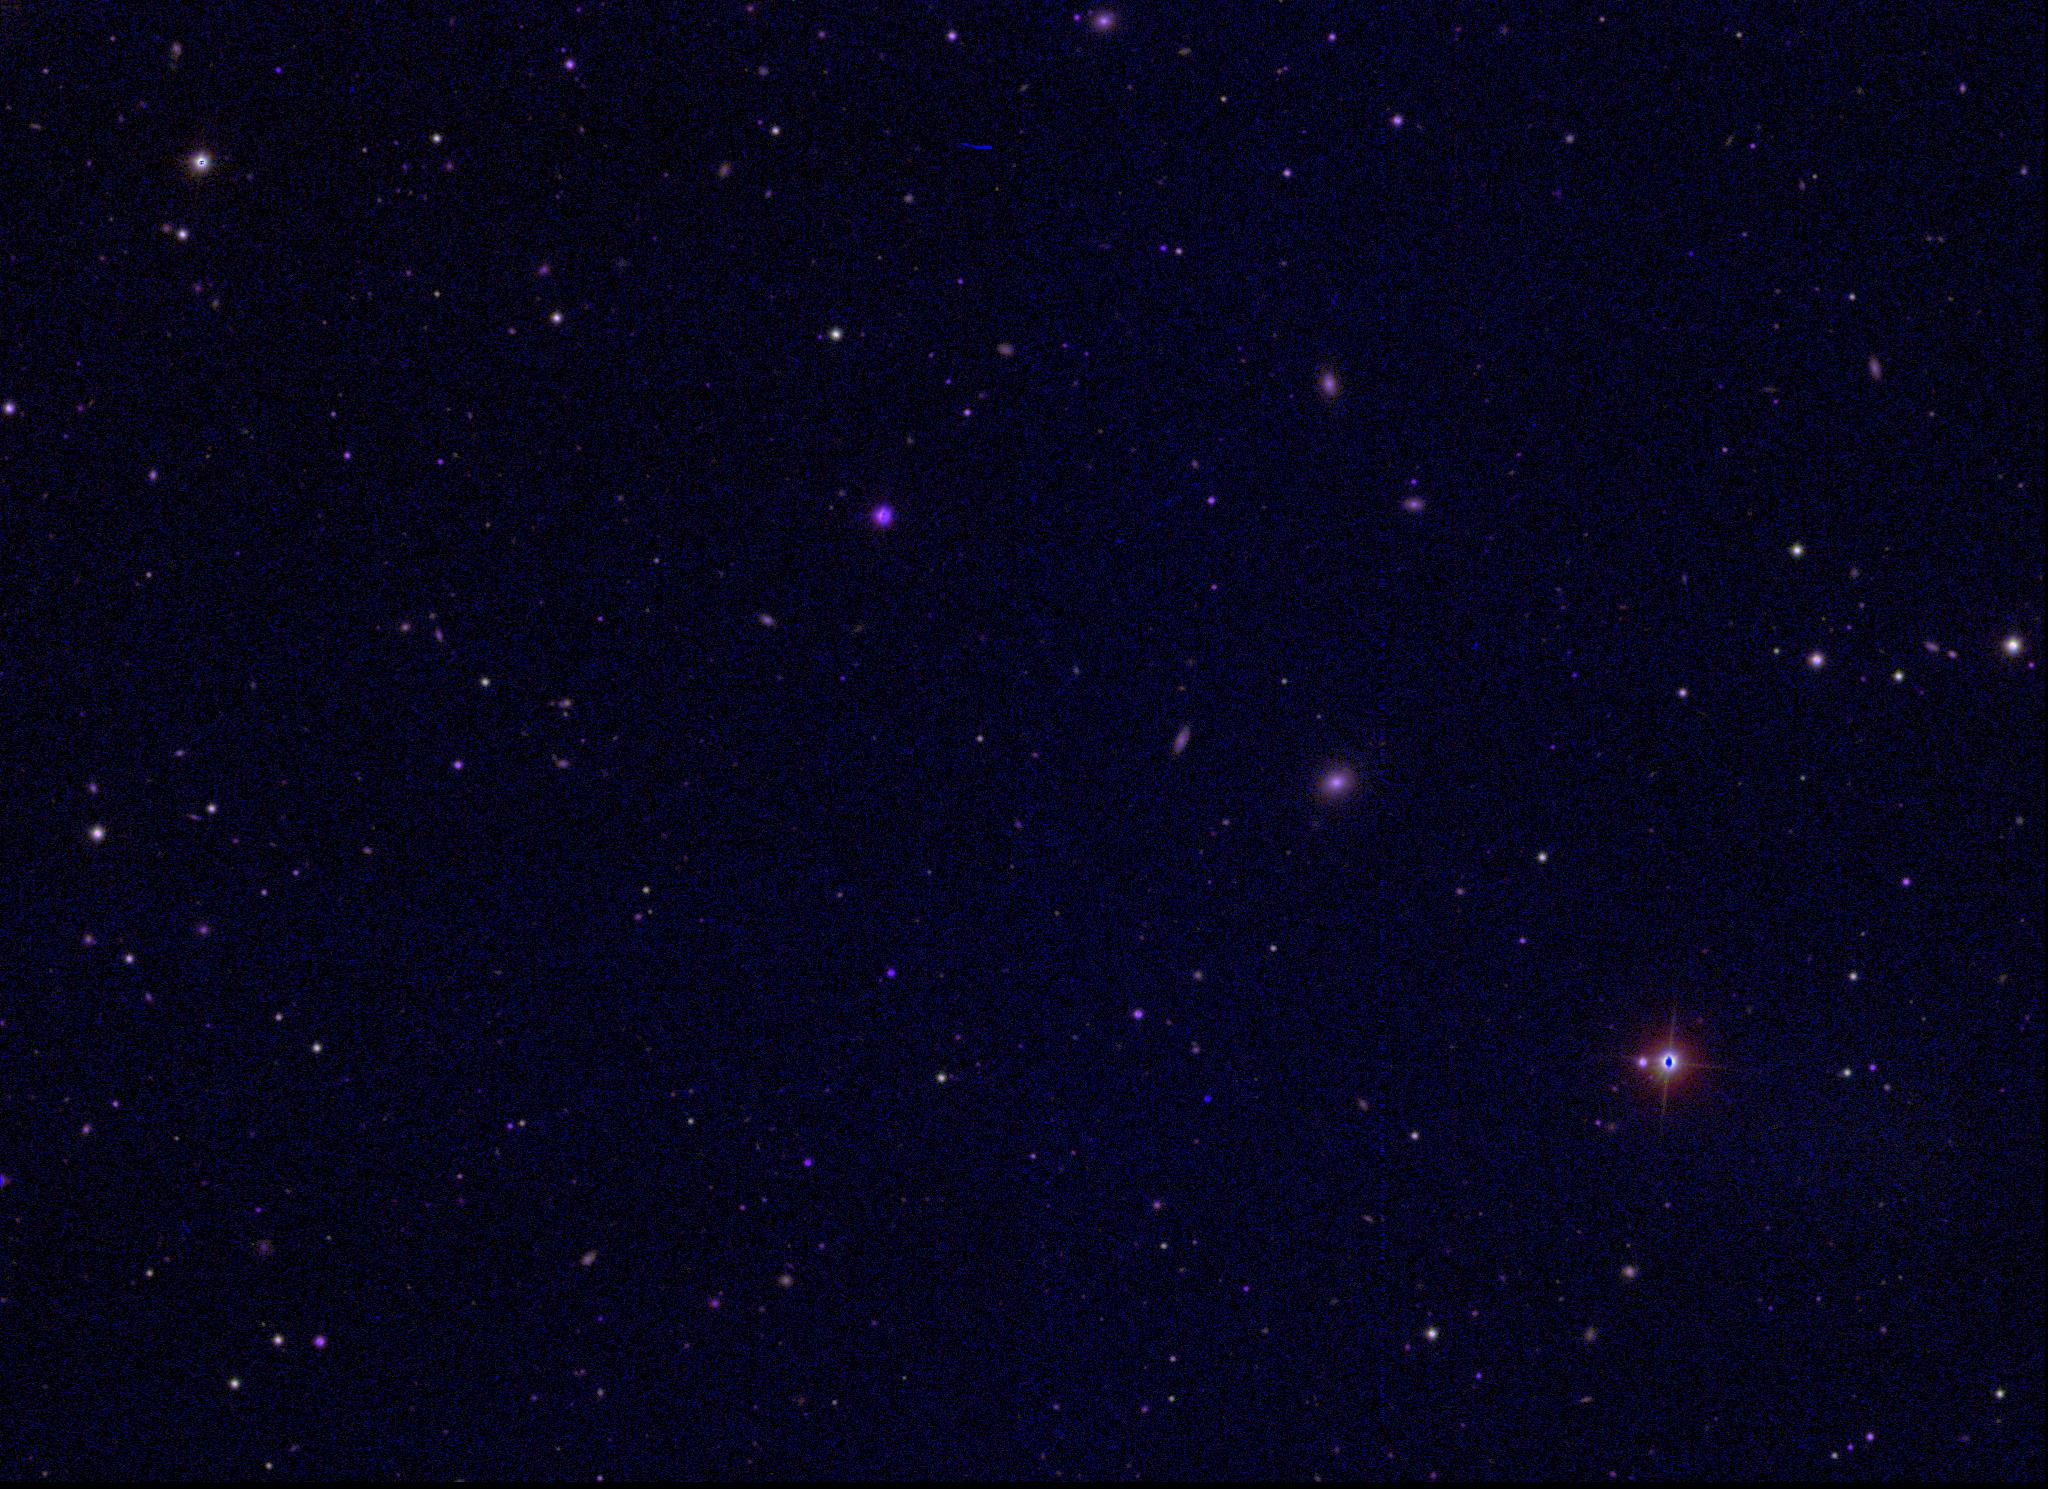L: (1197, 1091, 1212, 1106)
